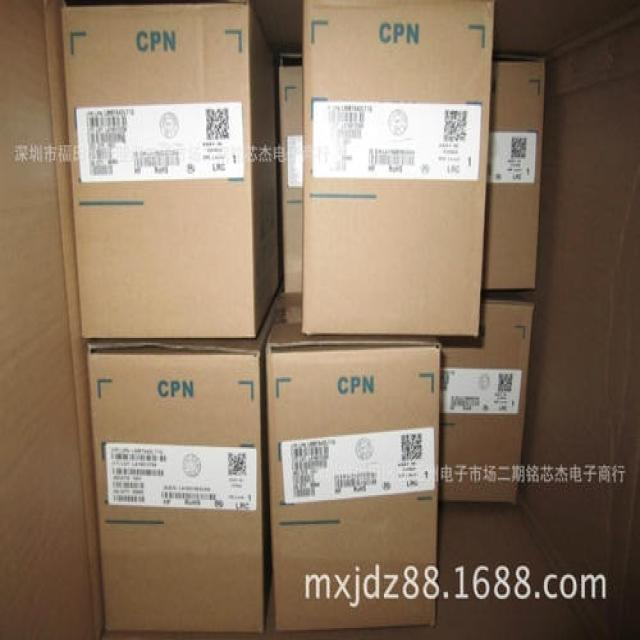box: (62, 2, 280, 339), (302, 1, 494, 339), (266, 321, 440, 632), (88, 341, 271, 634), (440, 302, 534, 501), (483, 54, 545, 289), (280, 56, 301, 293)
